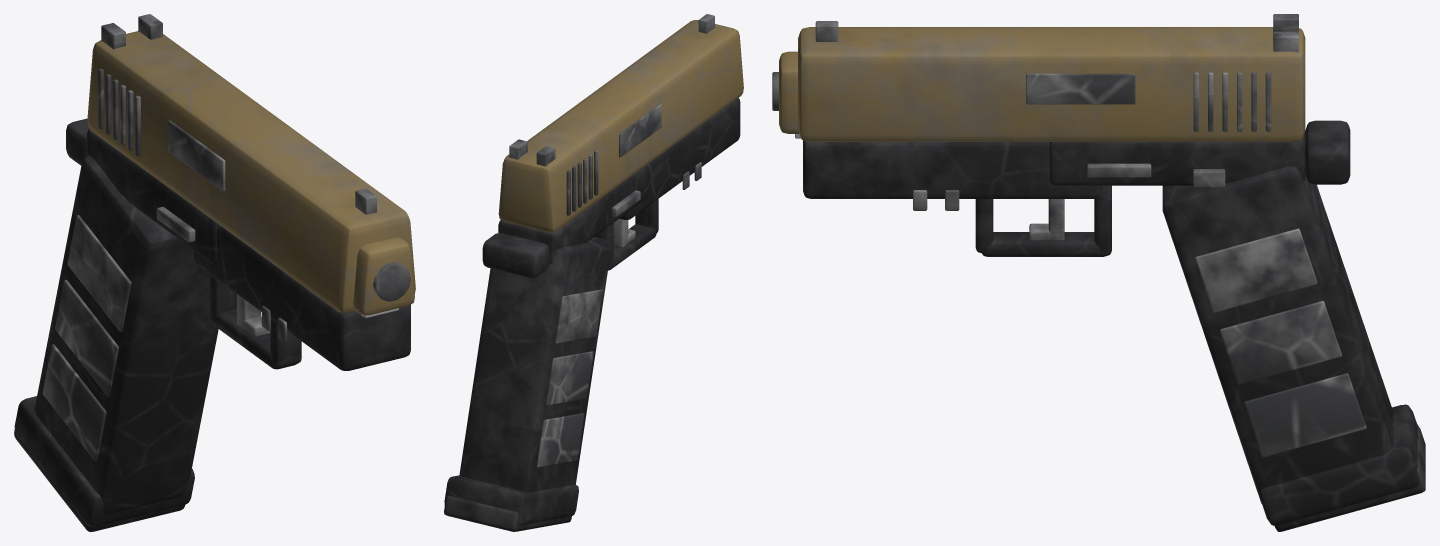
The model's file is weapon_handgun.glb.
3 views of the same model, side by side, from view 1: azimuth 30°, elevation 25°; view 2: azimuth 150°, elevation 25°; view 3: azimuth 270°, elevation 25° (orthographic). The views are drawn at different scales.
Parts seen in each view (by area): view 1: Handgun_Frame, Handgun_Slide, Handgun_Magazine, Handgun_Trigger; view 2: Handgun_Frame, Handgun_Slide, Handgun_Magazine, Handgun_Trigger; view 3: Handgun_Frame, Handgun_Slide, Handgun_Magazine, Handgun_Trigger.
Part boxes in pixels (box(x1,y1,x2,y2)): Handgun_Frame: box(14, 118, 410, 526); Handgun_Slide: box(87, 14, 415, 318); Handgun_Magazine: box(14, 429, 184, 531); Handgun_Trigger: box(237, 294, 270, 336); Handgun_Frame: box(444, 98, 740, 525); Handgun_Slide: box(498, 14, 743, 231); Handgun_Magazine: box(444, 495, 571, 531); Handgun_Trigger: box(613, 218, 635, 246); Handgun_Frame: box(803, 120, 1419, 525); Handgun_Slide: box(772, 14, 1305, 141); Handgun_Magazine: box(1274, 424, 1425, 531); Handgun_Trigger: box(1029, 199, 1064, 240).
Size of the model in its own units: 0.037 by 0.1673 by 0.2034.
Materials: 8 (8 with a texture image).
